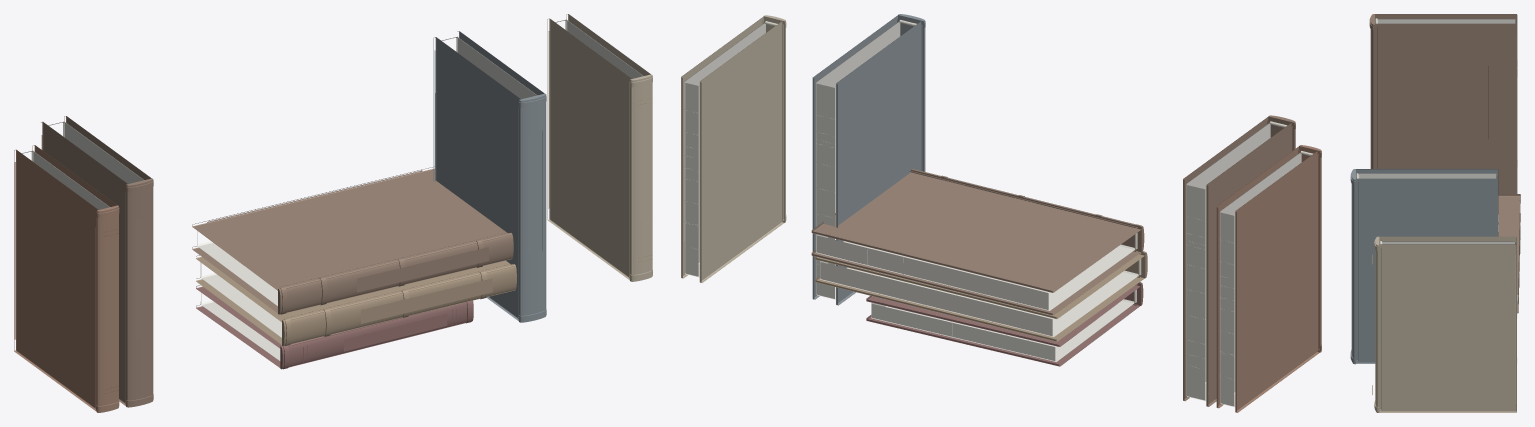
Rendered from X14_LRSGRAY_BOOKS_S03_bk1.glb.
The picture shows the model from 3 angles, left to right: view 1: azimuth 30°, elevation 25°; view 2: azimuth 150°, elevation 25°; view 3: azimuth 270°, elevation 25°; orthographic projection. The views are drawn at different scales.
Parts seen in each view (by area): view 1: S05_HUMANITIES_A_S05_HUMANITIES_B09_book_06_cover_-1, S05_HUMANITIES_A_S05_HUMANITIES_B05_book_03_cover_-1, S05_HUMANITIES_A_S05_HUMANITIES_B15_book_03_cover_-1, S05_HUMANITIES_A_S05_HUMANITIES_B12_book_01_cover_-1, S05_HUMANITIES_A_S05_HUMANITIES_B12_book_01_spine, S05_HUMANITIES_A_S05_HUMANITIES_B06_book_01_spine, S05_HUMANITIES_A_S05_HUMANITIES_B09_book_06_spine, S05_HUMANITIES_A_S05_HUMANITIES_B08_book_06_spine, S05_HUMANITIES_A_S05_HUMANITIES_B06_book_01_cover_-1, S05_HUMANITIES_A_S05_HUMANITIES_B05_book_03_spine, S05_HUMANITIES_A_S05_HUMANITIES_B15_book_03_spine, S05_HUMANITIES_A_S05_HUMANITIES_B07_book_03_spine (+22 smaller); view 2: S05_HUMANITIES_A_S05_HUMANITIES_B09_book_06_cover_-1, S05_HUMANITIES_A_S05_HUMANITIES_B15_book_03_cover_-1, S05_HUMANITIES_A_S05_HUMANITIES_B05_book_03_cover_-1, S05_HUMANITIES_A_S05_HUMANITIES_B12_book_01_cover_-1, S05_HUMANITIES_A_S05_HUMANITIES_B09_book_06_pages, S05_HUMANITIES_A_S05_HUMANITIES_B08_book_06_pages, S05_HUMANITIES_A_S05_HUMANITIES_B06_book_01_pages, S05_HUMANITIES_A_S05_HUMANITIES_B06_book_01_cover_-1, S05_HUMANITIES_A_S05_HUMANITIES_B12_book_01_pages, S05_HUMANITIES_A_S05_HUMANITIES_B07_book_03_pages, S05_HUMANITIES_A_S05_HUMANITIES_B05_book_03_pages, S05_HUMANITIES_A_S05_HUMANITIES_B15_book_03_pages (+13 smaller); view 3: S05_HUMANITIES_A_S05_HUMANITIES_B15_book_03_cover_1, S05_HUMANITIES_A_S05_HUMANITIES_B06_book_01_cover_1, S05_HUMANITIES_A_S05_HUMANITIES_B12_book_01_cover_1, S05_HUMANITIES_A_S05_HUMANITIES_B06_book_01_TITLE_SURFACE_FA, S05_HUMANITIES_A_S05_HUMANITIES_B15_book_03_TITLE_SURFACE_FA, S05_HUMANITIES_A_S05_HUMANITIES_B12_book_01_TITLE_SURFACE_FA, S05_HUMANITIES_A_S05_HUMANITIES_B09_book_06_cover_-1, S05_HUMANITIES_A_S05_HUMANITIES_B12_book_01_spine, S05_HUMANITIES_A_S05_HUMANITIES_B15_book_03_spine, S05_HUMANITIES_A_S05_HUMANITIES_B12_book_01_pages, S05_HUMANITIES_A_S05_HUMANITIES_B15_book_03_cover_-1, S05_HUMANITIES_A_S05_HUMANITIES_B06_book_01_spine (+8 smaller).
Boxes of the visible parts, left/top/right/bottom form: S05_HUMANITIES_A_S05_HUMANITIES_B09_book_06_cover_-1: left=192, top=166, right=507, bottom=290; S05_HUMANITIES_A_S05_HUMANITIES_B05_book_03_cover_-1: left=14, top=149, right=98, bottom=411; S05_HUMANITIES_A_S05_HUMANITIES_B15_book_03_cover_-1: left=547, top=18, right=631, bottom=280; S05_HUMANITIES_A_S05_HUMANITIES_B12_book_01_cover_-1: left=433, top=37, right=520, bottom=321; S05_HUMANITIES_A_S05_HUMANITIES_B12_book_01_spine: left=519, top=93, right=546, bottom=322; S05_HUMANITIES_A_S05_HUMANITIES_B06_book_01_spine: left=126, top=178, right=152, bottom=407; S05_HUMANITIES_A_S05_HUMANITIES_B09_book_06_spine: left=278, top=233, right=513, bottom=314; S05_HUMANITIES_A_S05_HUMANITIES_B08_book_06_spine: left=282, top=264, right=516, bottom=345; S05_HUMANITIES_A_S05_HUMANITIES_B06_book_01_cover_-1: left=41, top=122, right=127, bottom=405; S05_HUMANITIES_A_S05_HUMANITIES_B05_book_03_spine: left=96, top=205, right=118, bottom=412; S05_HUMANITIES_A_S05_HUMANITIES_B15_book_03_spine: left=630, top=74, right=652, bottom=281; S05_HUMANITIES_A_S05_HUMANITIES_B07_book_03_spine: left=280, top=300, right=473, bottom=369; S05_HUMANITIES_A_S05_HUMANITIES_B09_book_06_cover_-1: left=811, top=172, right=1140, bottom=292; S05_HUMANITIES_A_S05_HUMANITIES_B15_book_03_cover_-1: left=699, top=21, right=784, bottom=282; S05_HUMANITIES_A_S05_HUMANITIES_B05_book_03_cover_-1: left=1235, top=151, right=1321, bottom=412; S05_HUMANITIES_A_S05_HUMANITIES_B12_book_01_cover_-1: left=836, top=21, right=925, bottom=305; S05_HUMANITIES_A_S05_HUMANITIES_B09_book_06_pages: left=816, top=234, right=1135, bottom=310; S05_HUMANITIES_A_S05_HUMANITIES_B08_book_06_pages: left=820, top=260, right=1139, bottom=336; S05_HUMANITIES_A_S05_HUMANITIES_B06_book_01_pages: left=1186, top=123, right=1285, bottom=401; S05_HUMANITIES_A_S05_HUMANITIES_B06_book_01_cover_-1: left=1206, top=122, right=1295, bottom=406; S05_HUMANITIES_A_S05_HUMANITIES_B12_book_01_pages: left=816, top=21, right=914, bottom=299; S05_HUMANITIES_A_S05_HUMANITIES_B07_book_03_pages: left=871, top=291, right=1134, bottom=361; S05_HUMANITIES_A_S05_HUMANITIES_B05_book_03_pages: left=1220, top=152, right=1311, bottom=407; S05_HUMANITIES_A_S05_HUMANITIES_B15_book_03_pages: left=684, top=23, right=775, bottom=277; S05_HUMANITIES_A_S05_HUMANITIES_B15_book_03_cover_1: left=1379, top=244, right=1516, bottom=412; S05_HUMANITIES_A_S05_HUMANITIES_B06_book_01_cover_1: left=1375, top=23, right=1517, bottom=193; S05_HUMANITIES_A_S05_HUMANITIES_B12_book_01_cover_1: left=1356, top=178, right=1498, bottom=363; S05_HUMANITIES_A_S05_HUMANITIES_B06_book_01_TITLE_SURFACE_FA: left=1399, top=65, right=1488, bottom=139; S05_HUMANITIES_A_S05_HUMANITIES_B15_book_03_TITLE_SURFACE_FA: left=1401, top=282, right=1488, bottom=349; S05_HUMANITIES_A_S05_HUMANITIES_B12_book_01_TITLE_SURFACE_FA: left=1380, top=220, right=1469, bottom=236; S05_HUMANITIES_A_S05_HUMANITIES_B09_book_06_cover_-1: left=1498, top=194, right=1520, bottom=294; S05_HUMANITIES_A_S05_HUMANITIES_B12_book_01_spine: left=1351, top=169, right=1355, bottom=364; S05_HUMANITIES_A_S05_HUMANITIES_B15_book_03_spine: left=1375, top=236, right=1379, bottom=412; S05_HUMANITIES_A_S05_HUMANITIES_B12_book_01_pages: left=1358, top=173, right=1497, bottom=178; S05_HUMANITIES_A_S05_HUMANITIES_B15_book_03_cover_-1: left=1379, top=236, right=1516, bottom=244; S05_HUMANITIES_A_S05_HUMANITIES_B06_book_01_spine: left=1370, top=14, right=1374, bottom=168.
Bounding box in the file's own units: 0.5727 × 0.218 × 0.1823.
